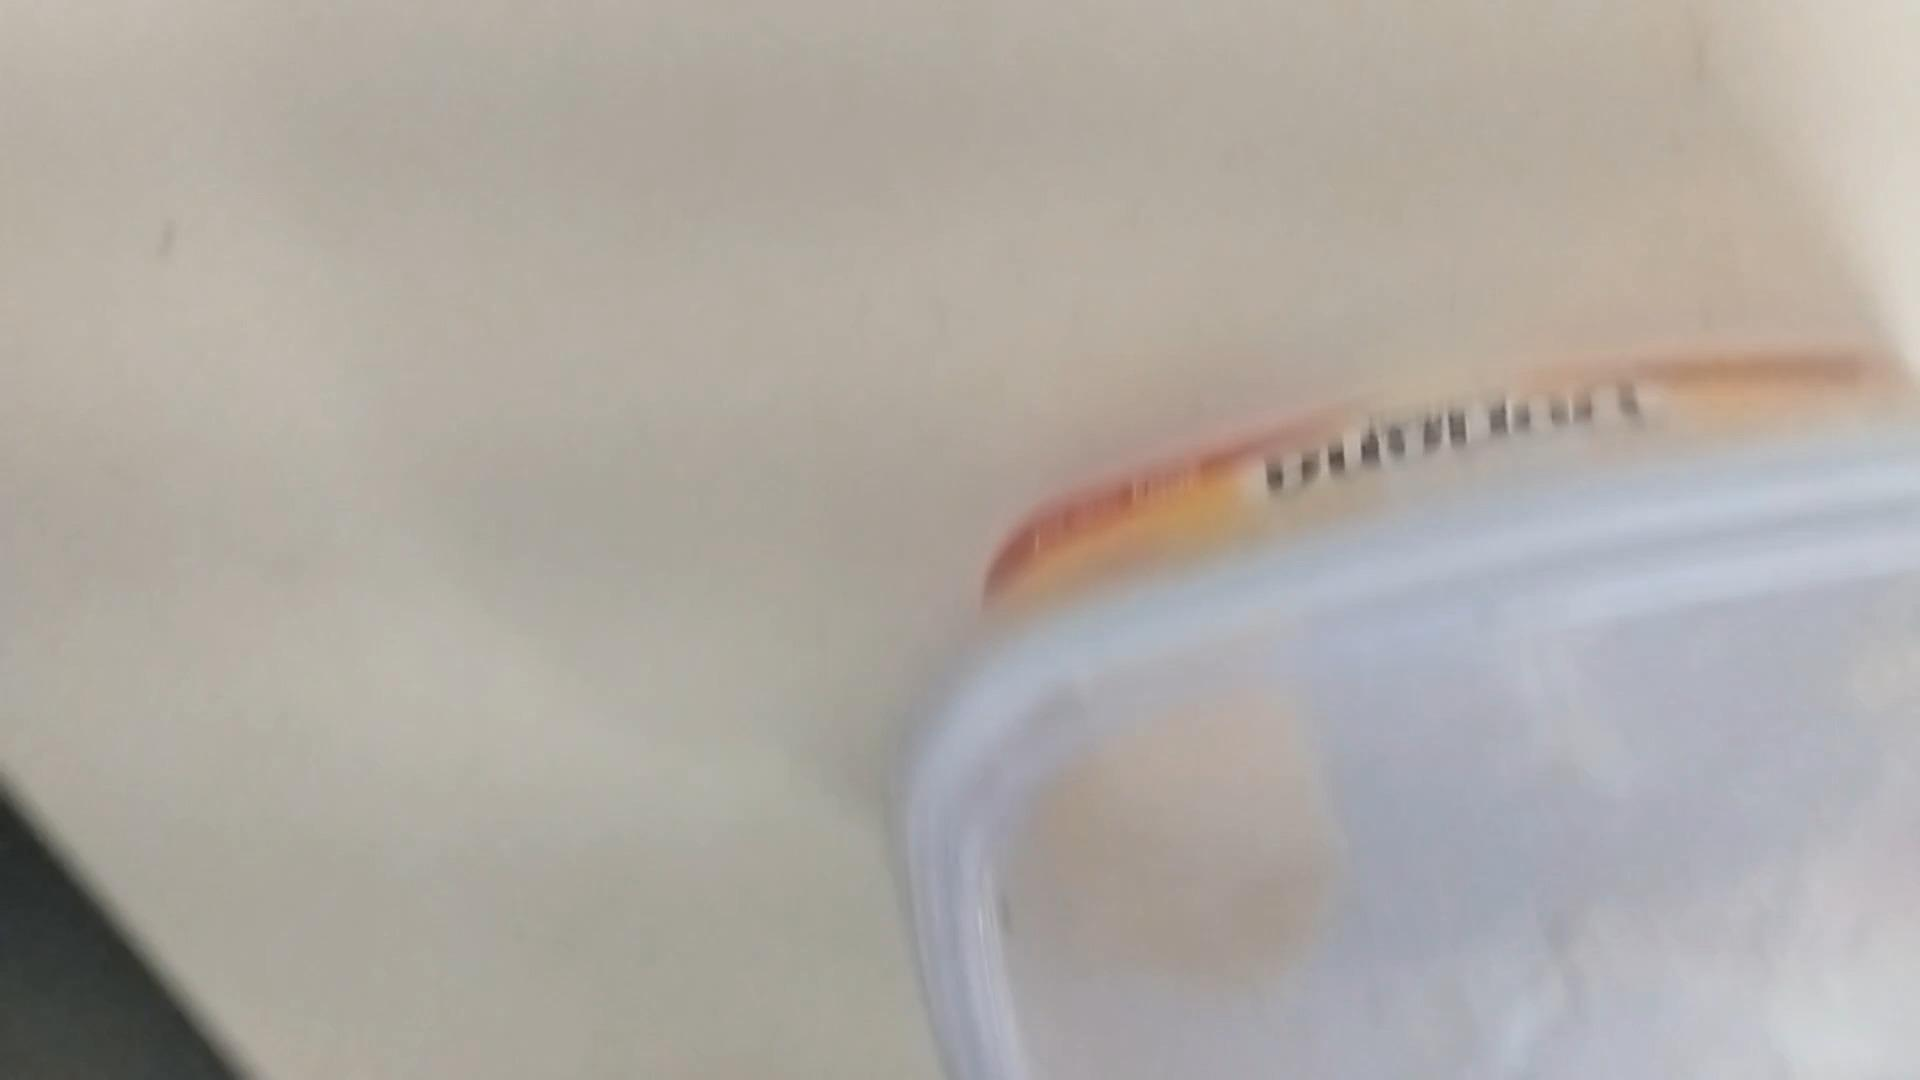butter: (884, 355, 1912, 1080)
